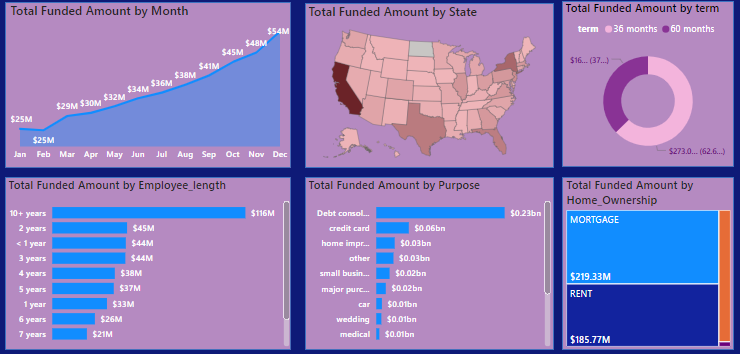

This screenshot's page, from the dashboard's own definition file:
{"tool":"powerbi","page":{"name":"OVERVIEW","canvas":[1280,720],"ordinal":1},"visuals":[{"type":"shape","box":[0,0,214,720],"z":0},{"type":"shape","box":[441.9,74.3,195.6,117.6],"z":0,"group":"g2"},{"type":"shape","box":[0,0,1279.8,60.9],"z":1000},{"type":"card","fields":{"Values":["bank_loan_data.Total Funded Amount"]},"box":[470,102.2,153.1,38.3],"z":1000,"group":"g2"},{"type":"textbox","box":[510,7.1,427.1,44.3],"z":2000},{"type":"shape","box":[236.1,74.3,195.6,117.6],"z":2000,"group":"g7"},{"type":"textbox","box":[457.5,74.3,163,31.2],"z":2000,"group":"g2"},{"type":"shape","box":[653.1,75,195.6,117.6],"z":2000,"group":"g4"},{"type":"shape","box":[863.9,75,195.6,117.6],"z":2000,"group":"g5"},{"type":"shape","box":[1074.7,75,195.6,117.6],"z":2000,"group":"g6"},{"type":"group","id":"g1","title":"Group 1","box":[235.7,74.3,195.7,127.1],"z":3000},{"type":"textbox","box":[562.6,140.8,60.5,31.7],"z":3000,"group":"g2"},{"type":"group","id":"g2","title":"Group 2","box":[439.7,74.3,197.8,124.3],"z":4000},{"type":"card","fields":{"Values":["bank_loan_data.Total Amount Received"]},"box":[688.6,102,136.1,42.5],"z":4000,"group":"g4"},{"type":"card","fields":{"Values":["bank_loan_data.Avg Interest Rate"]},"box":[895.4,102,130.4,41.1],"z":4000,"group":"g5"},{"type":"card","fields":{"Values":["bank_loan_data.Avg DTI"]},"box":[1110.7,102,124.7,42.5],"z":4000,"group":"g6"},{"type":"card","fields":{"Values":["bank_loan_data.Total Loan Application"]},"box":[285.3,102.7,93.5,39.7],"z":4000,"group":"g7"},{"type":"group","id":"g3","title":"Group 4","box":[439.7,141,85.7,48.6],"z":4000,"group":"g2"},{"type":"textbox","box":[251.7,74.3,163,31.2],"z":5000,"group":"g7"},{"type":"group","id":"g4","title":"Group 2","box":[653.1,75,195.6,127.6],"z":5000},{"type":"textbox","box":[668.7,75,163,31.2],"z":5000,"group":"g4"},{"type":"textbox","box":[879.5,75,163,31.2],"z":5000,"group":"g5"},{"type":"textbox","box":[1090.3,75,163,31.2],"z":5000,"group":"g6"},{"type":"card","fields":{"Values":["bank_loan_data.MoM Funded Amount"]},"box":[555,157.5,65.2,41.1],"z":5000,"group":"g2"},{"type":"group","id":"g5","title":"Group 2","box":[862.8,75,196.7,127.6],"z":6000},{"type":"card","fields":{"Values":["bank_loan_data.MTD Avg Interest Rate"]},"box":[862.8,148.7,79.4,53.9],"z":6000,"group":"g5"},{"type":"card","fields":{"Values":["bank_loan_data.MTD Loan Application"]},"box":[235.7,152.3,72.1,49],"z":6000,"group":"g7"},{"type":"card","fields":{"Values":["bank_loan_data.MTD Amount Received"]},"box":[658.7,157.2,70.9,45.4],"z":6000,"group":"g4"},{"type":"card","fields":{"Values":["bank_loan_data.MTD Avg DTI"]},"box":[1075.5,157.2,72.3,42.5],"z":6000,"group":"g6"},{"type":"card","fields":{"Values":["bank_loan_data.MTD Funded Amount"]},"box":[439.7,159.6,85.7,30],"z":6000,"group":"g3"},{"type":"group","id":"g6","title":"Group 2","box":[1074.7,75,195.6,124.7],"z":7000},{"type":"textbox","box":[240,140.8,63.4,36],"z":7000,"group":"g7"},{"type":"textbox","box":[451.6,141,64.3,28.6],"z":7000,"group":"g3"},{"type":"textbox","box":[657,141.5,63.4,36],"z":7000,"group":"g4"},{"type":"textbox","box":[867.8,141.5,63.4,36],"z":7000,"group":"g5"},{"type":"textbox","box":[1078.6,141.5,63.4,36],"z":7000,"group":"g6"},{"type":"textbox","box":[356.8,140.8,60.5,31.7],"z":8000,"group":"g7"},{"type":"textbox","box":[773.8,141.5,60.5,31.7],"z":8000,"group":"g4"},{"type":"textbox","box":[984.6,141.5,60.5,31.7],"z":8000,"group":"g5"},{"type":"textbox","box":[1195.4,141.5,60.5,31.7],"z":8000,"group":"g6"},{"type":"shape","box":[236.7,201.3,405.4,235.3],"z":8000},{"type":"group","id":"g7","title":"Group 3","box":[235.7,74.3,196,127],"z":8001,"group":"g8"},{"type":"actionButton","box":[0,0,100,40],"z":9000},{"type":"card","fields":{"Values":["bank_loan_data.MoM Loan Application"]},"box":[356.8,153.8,57.7,44.7],"z":9000,"group":"g7"},{"type":"card","fields":{"Values":["bank_loan_data.MoM Avg Interest Rate"]},"box":[985,157.2,68,42.5],"z":9000,"group":"g5"},{"type":"card","fields":{"Values":["bank_loan_data.MoM Amount Received"]},"box":[766,159.3,67.1,31.4],"z":9000,"group":"g4"},{"type":"card","fields":{"Values":["bank_loan_data.MoM Avg DTI"]},"box":[1195.6,160.1,58.1,38.3],"z":9000,"group":"g6"},{"type":"group","id":"g8","title":"Group 2","box":[235.7,74.3,196,127],"z":9003,"group":"g1"},{"type":"slicer","fields":{"Values":["bank_loan_data.purpose"]},"box":[12.8,646.3,188.5,48.2],"z":10000},{"type":"slicer","fields":{"Values":["bank_loan_data.grade"]},"box":[12.8,548.5,188.5,46.8],"z":11000},{"type":"slicer","fields":{"Values":["bank_loan_data.address_state"]},"box":[12.8,449.3,188.5,46.8],"z":12000},{"type":"textbox","box":[12.8,419.5,59.5,32.6],"z":13000},{"type":"shape","box":[236.7,449.3,405.4,245.2],"z":14000},{"type":"textbox","box":[12.8,515.9,72.3,32.6],"z":15000},{"type":"textbox","box":[12.8,613.7,107.7,32.6],"z":16000},{"type":"textbox","box":[12.8,328.8,158.7,31.2],"z":17000},{"type":"areaChart","fields":{"Y":["bank_loan_data.Total Funded Amount"],"Category":["Date table.Month"]},"box":[239.5,201.3,405.4,233.9],"z":18000},{"type":"slicer","fields":{"Values":["New Measure.New Measure"]},"box":[12.8,360,188.5,48.2],"z":19000},{"type":"shape","box":[661.9,202.7,352.9,233.9],"z":20000},{"type":"shapeMap","fields":{"Value":["bank_loan_data.Total Funded Amount"],"Category":["bank_loan_data.address_state"]},"box":[661.9,202.7,352.9,233.9],"z":21000},{"type":"shape","box":[1026.1,199.8,243.8,235.3],"z":22000},{"type":"donutChart","fields":{"Y":["bank_loan_data.Total Funded Amount"],"Category":["bank_loan_data.term"]},"box":[1026.1,198.4,243.8,236.7],"z":23000},{"type":"clusteredBarChart","fields":{"Y":["bank_loan_data.Total Funded Amount"],"Category":["bank_loan_data.emp_length"]},"box":[236.7,449.3,408.2,245.2],"z":24000},{"type":"shape","box":[661.9,449.3,352.9,245.2],"z":25000},{"type":"barChart","fields":{"Y":["bank_loan_data.Total Funded Amount"],"Category":["bank_loan_data.purpose"]},"box":[661.9,449.3,352.9,245.2],"z":26000},{"type":"shape","box":[1026.1,449.3,243.8,245.2],"z":27000},{"type":"treemap","fields":{"Values":["bank_loan_data.Total Funded Amount"],"Group":["bank_loan_data.home_ownership"]},"box":[1027.6,449.3,242.4,245.2],"z":28000},{"type":"pageNavigator","box":[12.8,178.6,188.5,138.9],"z":29000},{"type":"image","box":[0,17,199.8,148.8],"z":30000}]}

Visuals, with their boxes on the page's 1280x720 design canvas (x1, y1, x2, y2). These are canvas units, not pixel positions in the 740x354 screenshot, which may show the page scaled, cropped or inside an application window:
shape: [0, 0, 214, 720]
shape: [442, 74, 638, 192]
shape: [0, 0, 1280, 61]
card - bank_loan_data.Total Funded Amount: [470, 102, 623, 140]
textbox: [510, 7, 937, 51]
shape: [236, 74, 432, 192]
textbox: [458, 74, 620, 106]
shape: [653, 75, 849, 193]
shape: [864, 75, 1060, 193]
shape: [1075, 75, 1270, 193]
"Group 1" group: [236, 74, 431, 201]
textbox: [563, 141, 623, 172]
"Group 2" group: [440, 74, 638, 199]
card - bank_loan_data.Total Amount Received: [689, 102, 825, 144]
card - bank_loan_data.Avg Interest Rate: [895, 102, 1026, 143]
card - bank_loan_data.Avg DTI: [1111, 102, 1235, 144]
card - bank_loan_data.Total Loan Application: [285, 103, 379, 142]
"Group 4" group: [440, 141, 525, 190]
textbox: [252, 74, 415, 106]
"Group 2" group: [653, 75, 849, 203]
textbox: [669, 75, 832, 106]
textbox: [880, 75, 1042, 106]
textbox: [1090, 75, 1253, 106]
card - bank_loan_data.MoM Funded Amount: [555, 158, 620, 199]
"Group 2" group: [863, 75, 1060, 203]
card - bank_loan_data.MTD Avg Interest Rate: [863, 149, 942, 203]
card - bank_loan_data.MTD Loan Application: [236, 152, 308, 201]
card - bank_loan_data.MTD Amount Received: [659, 157, 730, 203]
card - bank_loan_data.MTD Avg DTI: [1076, 157, 1148, 200]
card - bank_loan_data.MTD Funded Amount: [440, 160, 525, 190]
"Group 2" group: [1075, 75, 1270, 200]
textbox: [240, 141, 303, 177]
textbox: [452, 141, 516, 170]
textbox: [657, 142, 720, 178]
textbox: [868, 142, 931, 178]
textbox: [1079, 142, 1142, 178]
textbox: [357, 141, 417, 172]
textbox: [774, 142, 834, 173]
textbox: [985, 142, 1045, 173]
textbox: [1195, 142, 1256, 173]
shape: [237, 201, 642, 437]
"Group 3" group: [236, 74, 432, 201]
actionButton: [0, 0, 100, 40]
card - bank_loan_data.MoM Loan Application: [357, 154, 414, 198]
card - bank_loan_data.MoM Avg Interest Rate: [985, 157, 1053, 200]
card - bank_loan_data.MoM Amount Received: [766, 159, 833, 191]
card - bank_loan_data.MoM Avg DTI: [1196, 160, 1254, 198]
"Group 2" group: [236, 74, 432, 201]
slicer - bank_loan_data.purpose: [13, 646, 201, 694]
slicer - bank_loan_data.grade: [13, 548, 201, 595]
slicer - bank_loan_data.address_state: [13, 449, 201, 496]
textbox: [13, 420, 72, 452]
shape: [237, 449, 642, 694]
textbox: [13, 516, 85, 548]
textbox: [13, 614, 120, 646]
textbox: [13, 329, 172, 360]
areaChart - bank_loan_data.Total Funded Amount x Date table.Month: [240, 201, 645, 435]
slicer - New Measure.New Measure: [13, 360, 201, 408]
shape: [662, 203, 1015, 437]
shapeMap - bank_loan_data.Total Funded Amount x bank_loan_data.address_state: [662, 203, 1015, 437]
shape: [1026, 200, 1270, 435]
donutChart - bank_loan_data.Total Funded Amount x bank_loan_data.term: [1026, 198, 1270, 435]
clusteredBarChart - bank_loan_data.Total Funded Amount x bank_loan_data.emp_length: [237, 449, 645, 694]
shape: [662, 449, 1015, 694]
barChart - bank_loan_data.Total Funded Amount x bank_loan_data.purpose: [662, 449, 1015, 694]
shape: [1026, 449, 1270, 694]
treemap - bank_loan_data.Total Funded Amount x bank_loan_data.home_ownership: [1028, 449, 1270, 694]
pageNavigator: [13, 179, 201, 318]
image: [0, 17, 200, 166]
